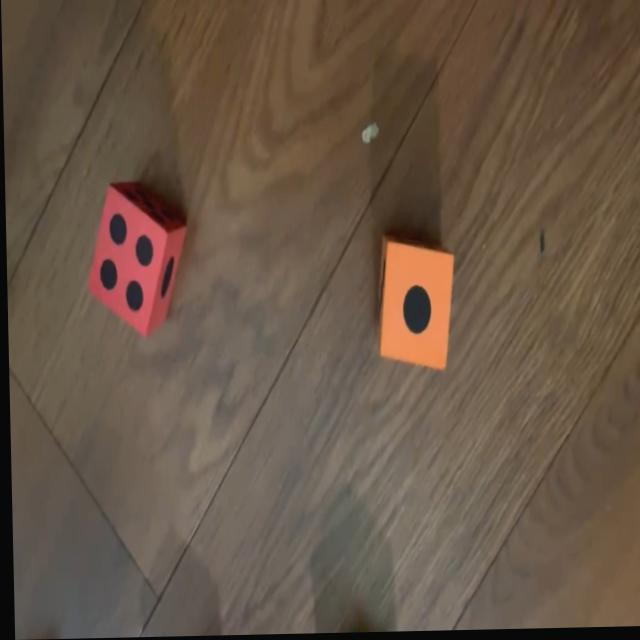cube: (84, 181, 187, 337)
